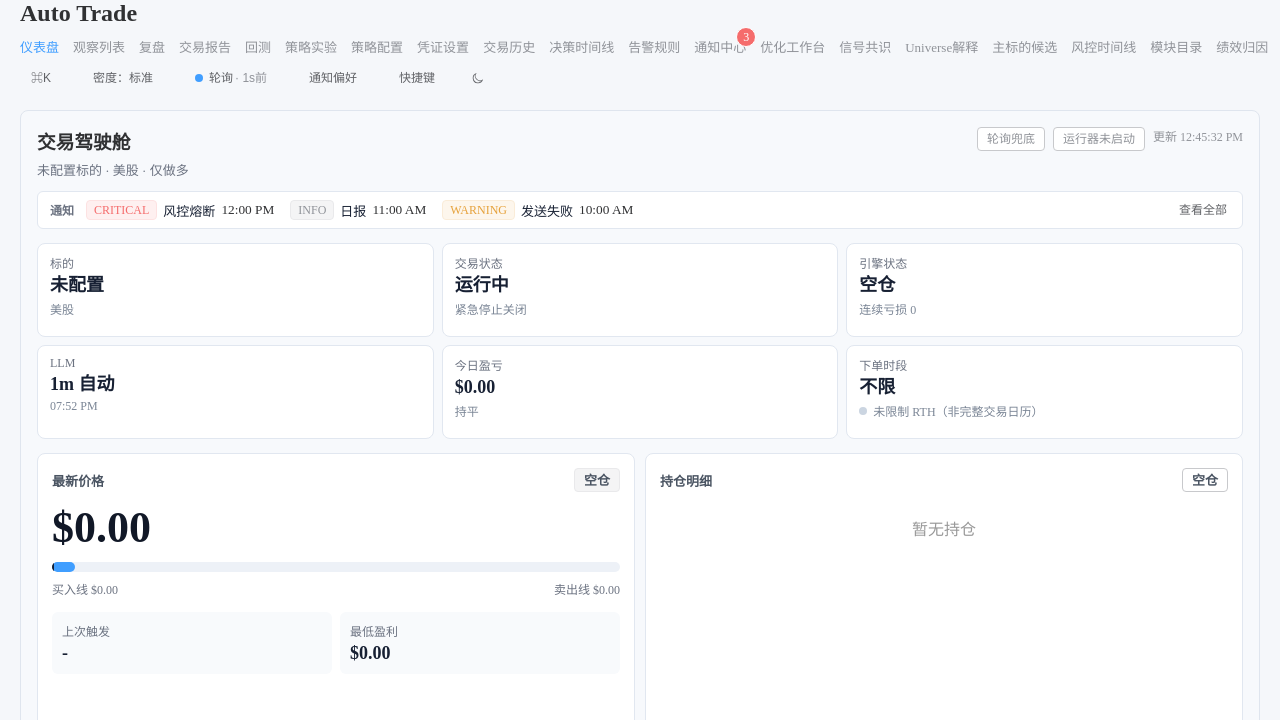
Test: Command palette › opens from the header button and lists commands
expect the link "仪表盘" is shown: met, box [20, 37, 59, 56]
Click the button with test id "nav-command-palette": (41, 78) [20, 66, 62, 90]
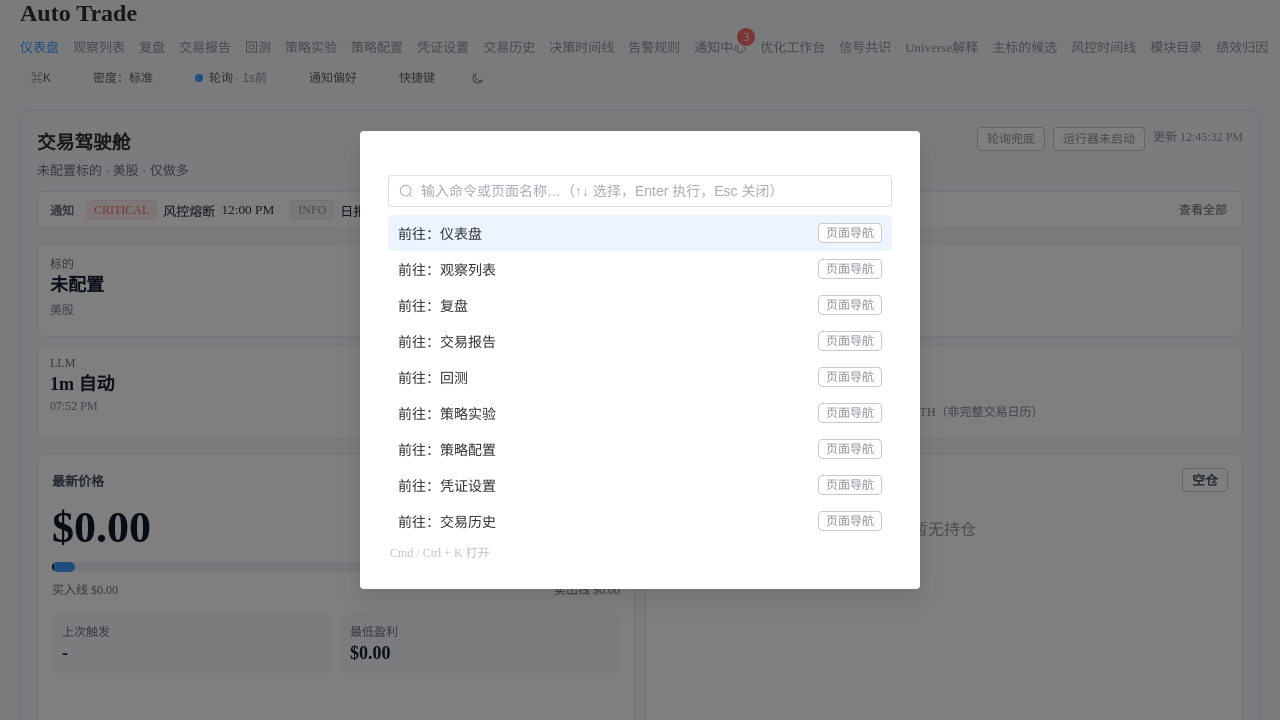
expect the element with test id "command-palette" is shown: met, box [376, 163, 904, 573]
expect the number of list items with class "command-item" is more than 0: met
